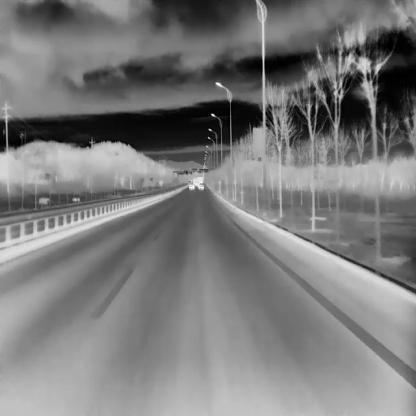car: (197, 176, 202, 186), (192, 177, 197, 186), (189, 183, 194, 188), (199, 183, 204, 188)
